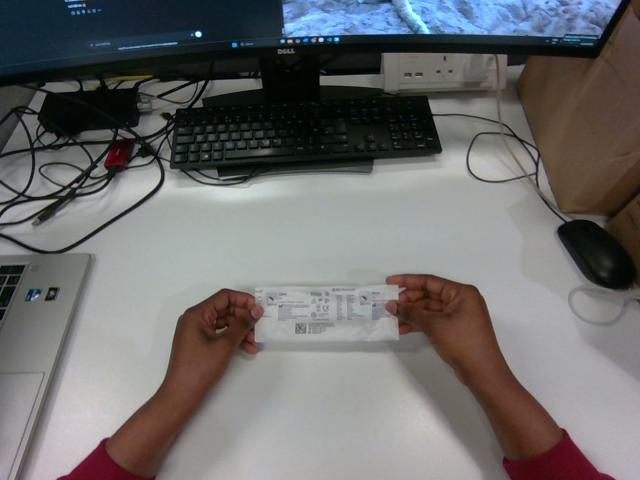syringe: (255, 285, 398, 341)
